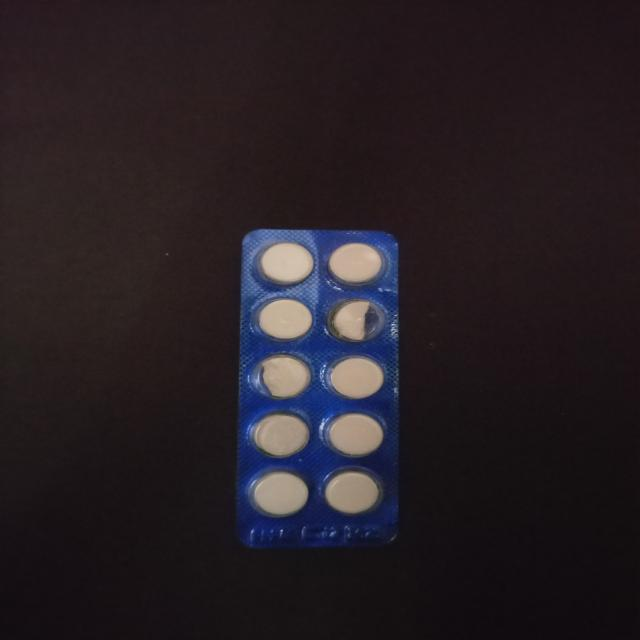defect: (246, 352, 313, 402), (324, 297, 391, 345)
